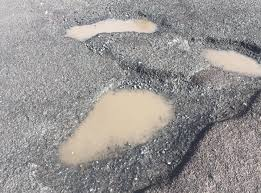potholes: (61, 11, 160, 47)
